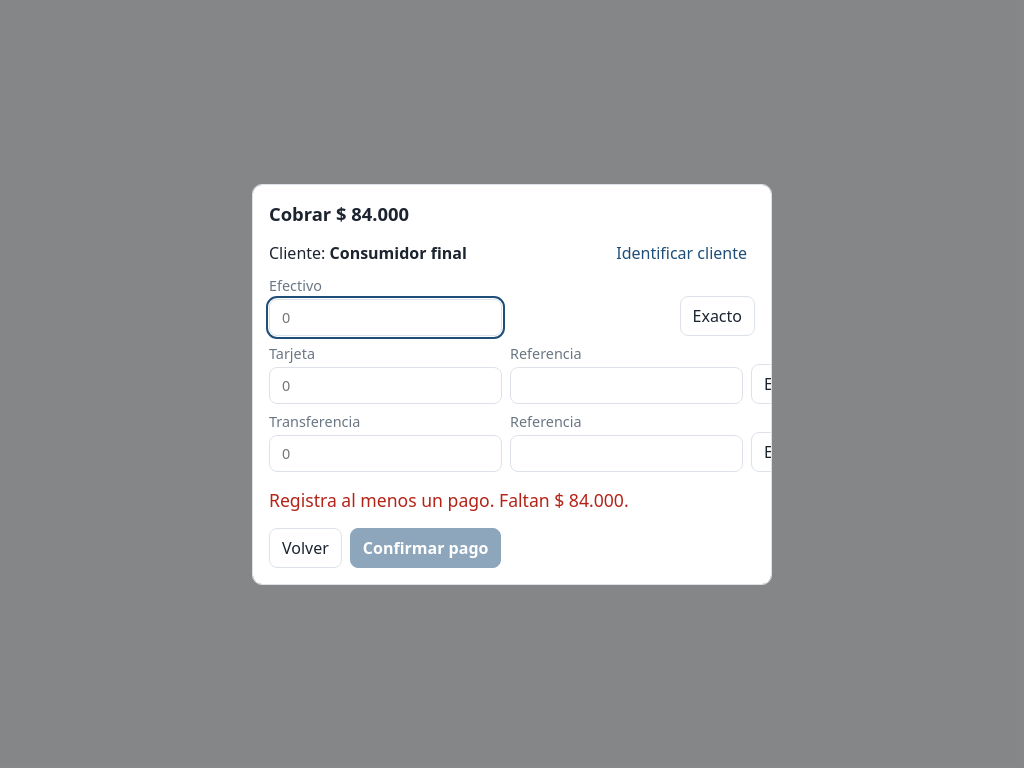
Test: Checkout en línea › no deja confirmar si falta dinero
In the field labelled "Efectivo": x=386, y=317 top-left (269, 298), bottom-right (502, 336), type "50000"
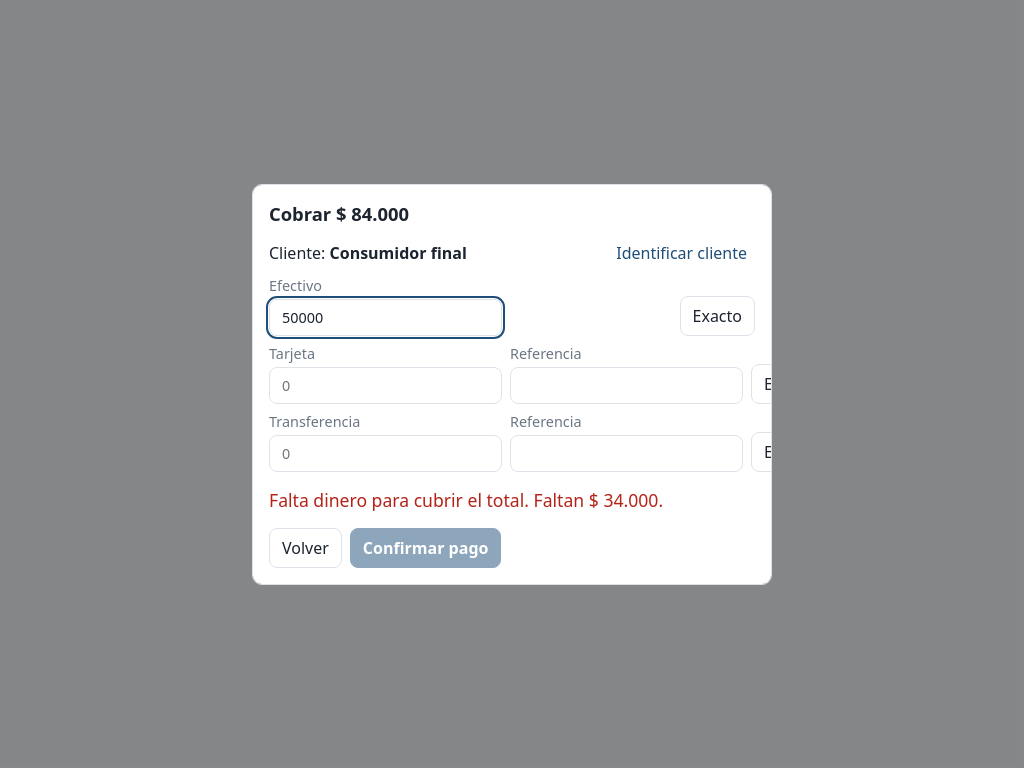
expect the button "Confirmar pago" is disabled: met, box top-left (350, 528), bottom-right (502, 568)
expect the text "Falta dinero para cubrir el total. Faltan $ 34.000." is shown: met, box top-left (269, 488), bottom-right (663, 512)
